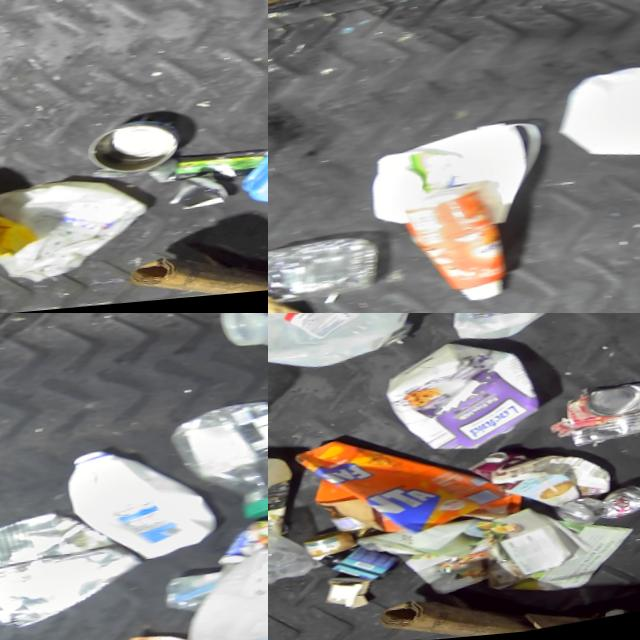can: (82, 110, 189, 182), (557, 391, 640, 456), (548, 489, 640, 536), (296, 535, 346, 566)
milk_jug: (57, 441, 207, 579), (0, 167, 148, 292), (268, 313, 409, 382), (174, 554, 268, 640), (438, 313, 577, 350)
non_white_jug: (393, 179, 520, 313), (406, 350, 527, 458)
plastic_bottle: (173, 407, 268, 536), (268, 231, 380, 310)
